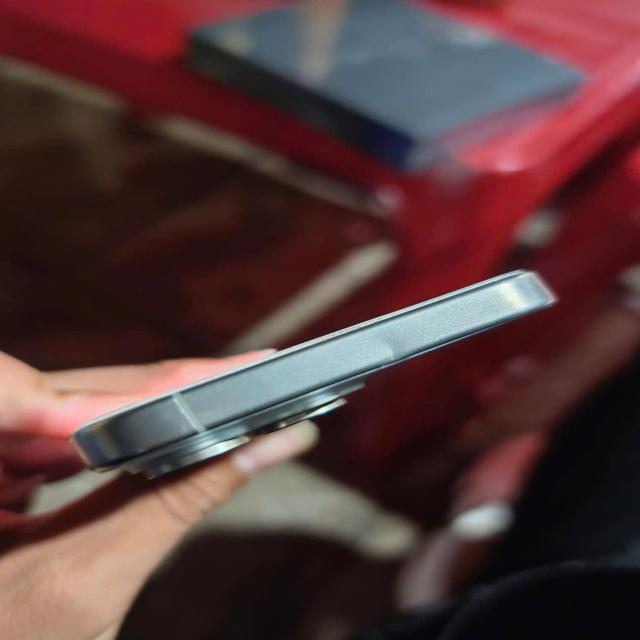physical_damage: (369, 324, 404, 364)
scratch: (182, 414, 196, 432), (170, 396, 184, 412), (136, 442, 150, 453)
